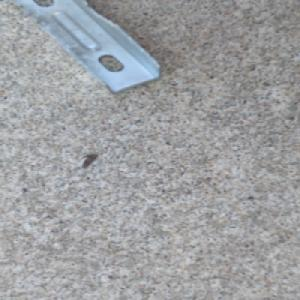ClampPart: (17, 0, 165, 96)
